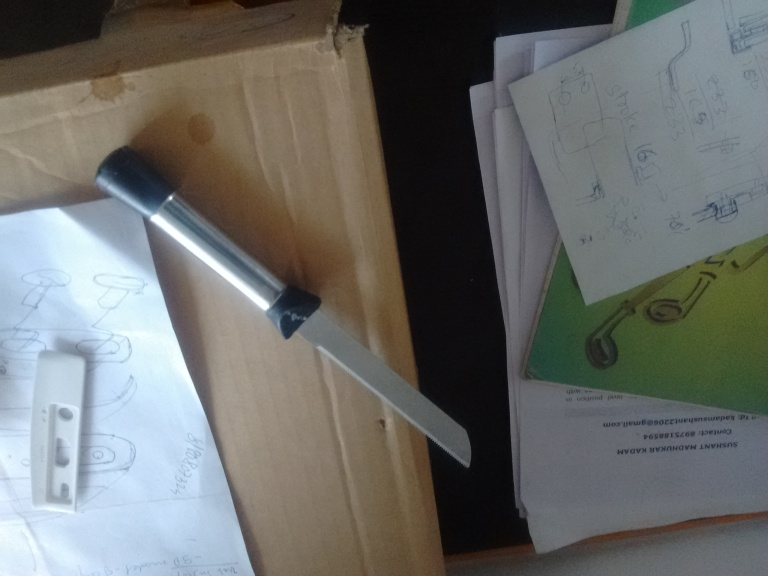knife: (92, 143, 472, 467)
